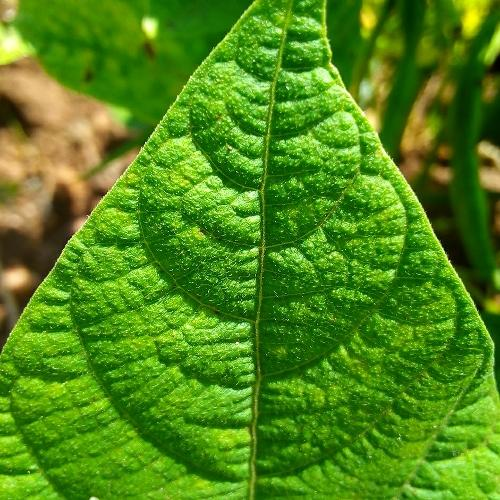sehat: (29, 141, 454, 500)
